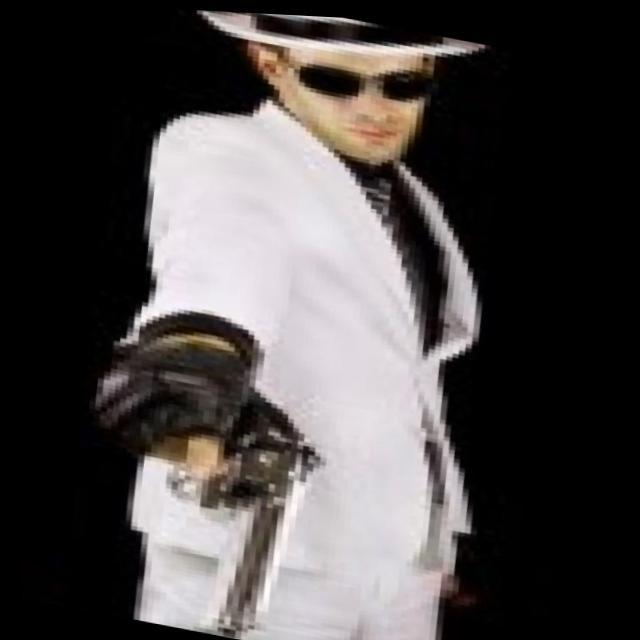weapon: (48, 299, 344, 640)
